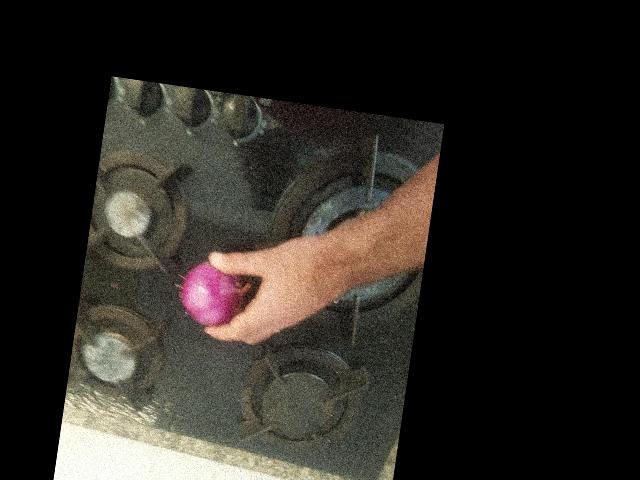onion: (123, 365, 193, 431)
